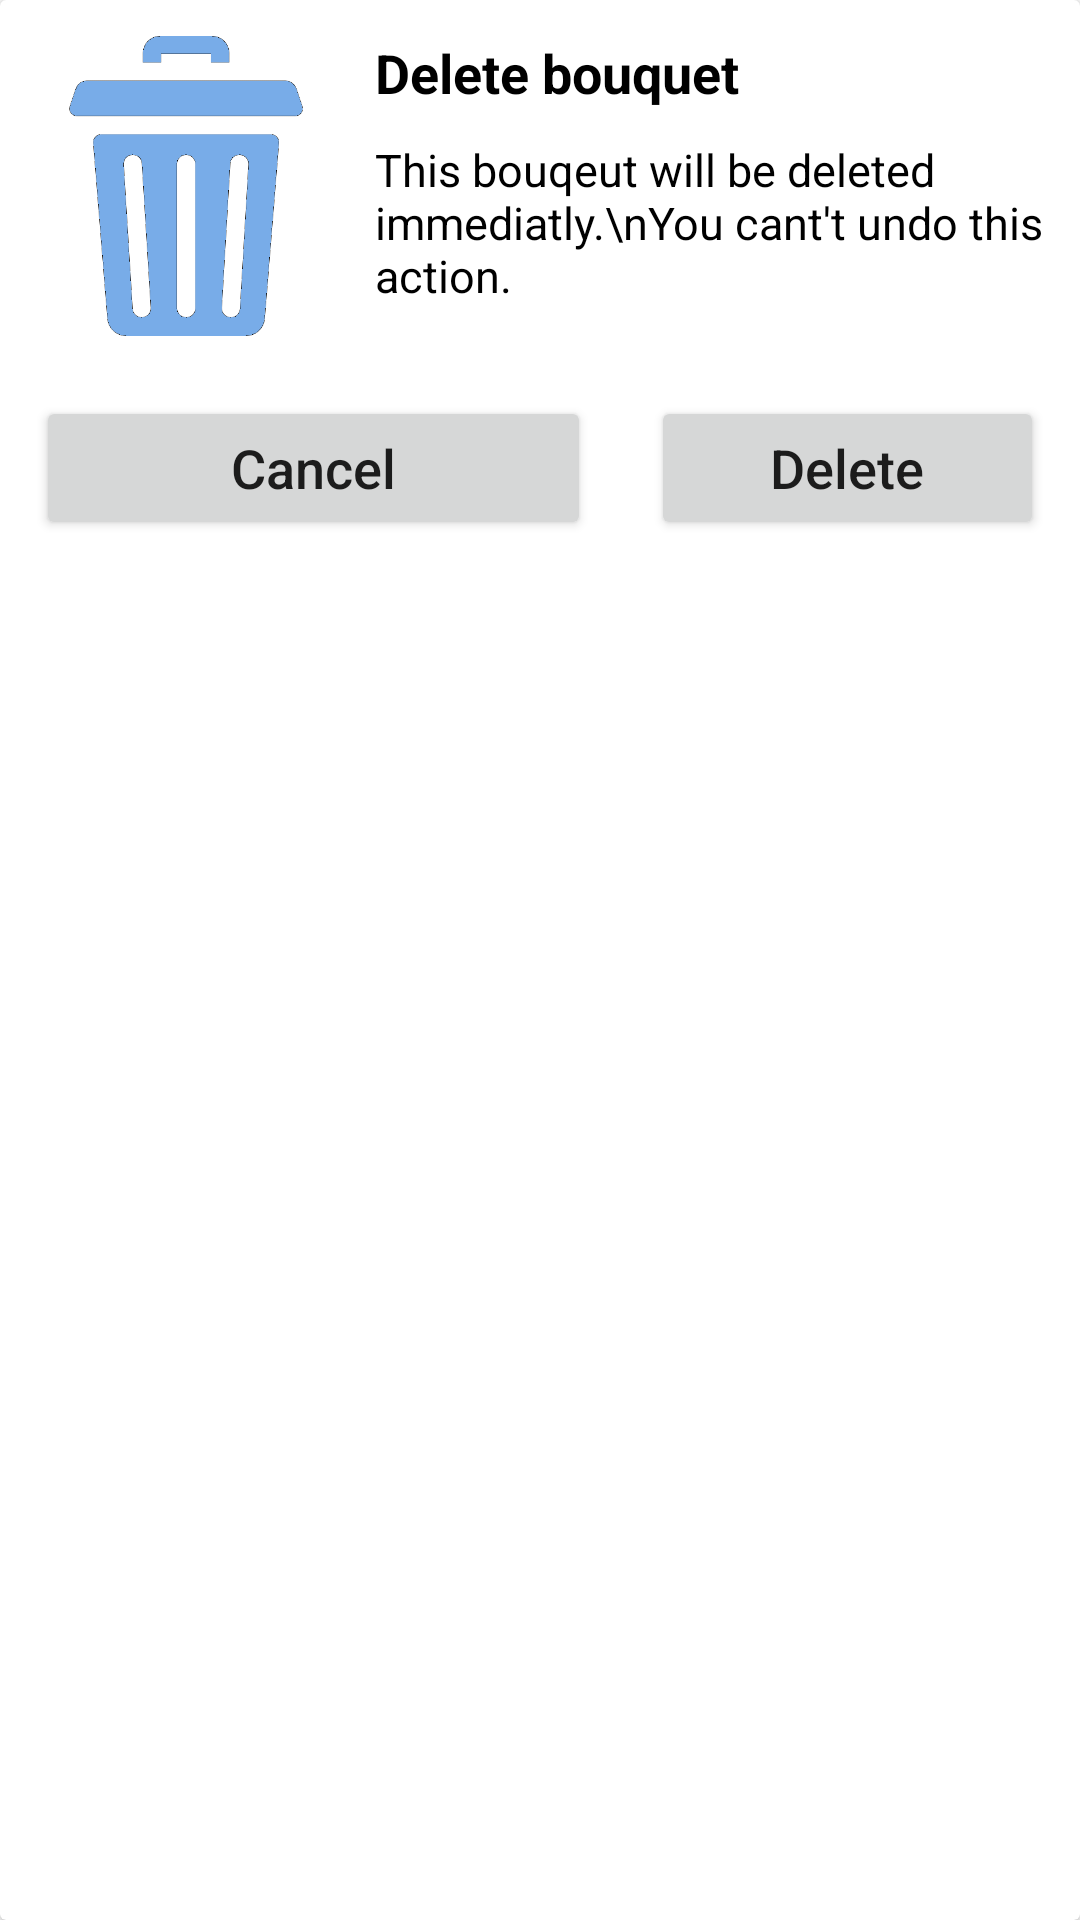

Where icons sit on this 1080px x 1920px app screen, as box(x1, y1, x2, y2):
deleteicon: box(69, 36, 303, 336)
